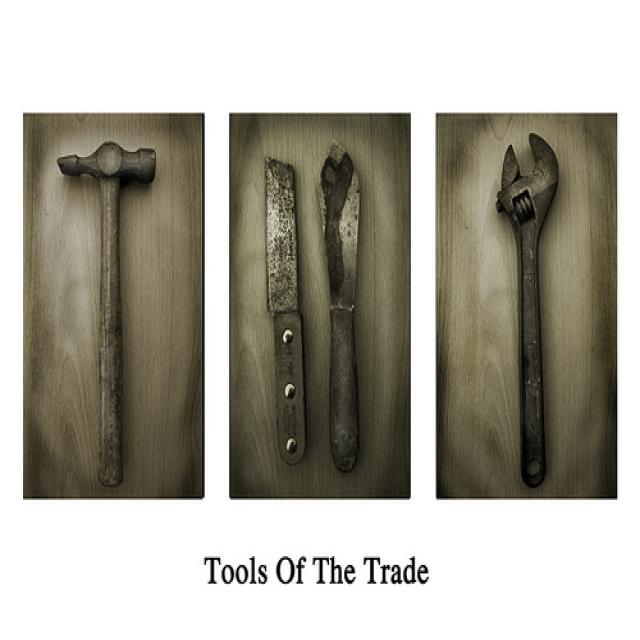hammer: (39, 132, 186, 517)
wrench: (476, 121, 592, 488)
